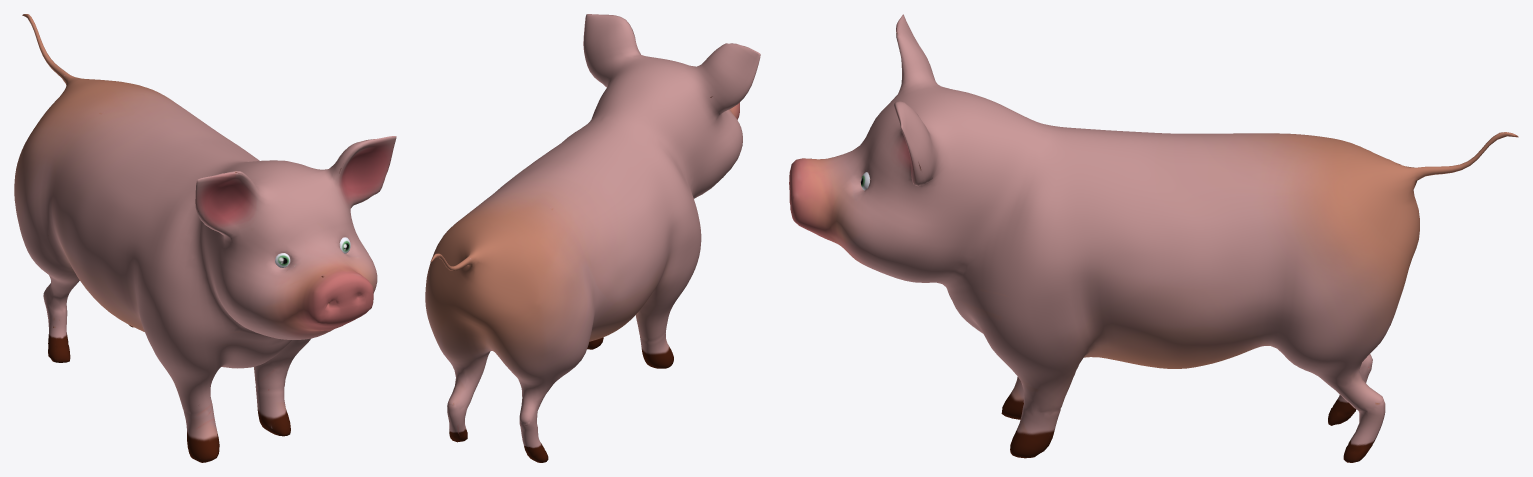
File: domuz.fbx
3 renders of one model, left to right at view 1: azimuth 30°, elevation 25°; view 2: azimuth 150°, elevation 25°; view 3: azimuth 270°, elevation 25°, orthographic. The views are drawn at different scales.
Visible parts, largest first — view 1: kravatlı domuz; view 2: kravatlı domuz; view 3: kravatlı domuz.
Boxes of the visible parts, x1=… form: kravatlı domuz: x1=14, y1=14, x2=396, y2=462; kravatlı domuz: x1=425, y1=14, x2=760, y2=462; kravatlı domuz: x1=789, y1=14, x2=1518, y2=462.
Bounding box in the file's own units: 68.83 × 112 × 195.
1 material, 1 textured.
